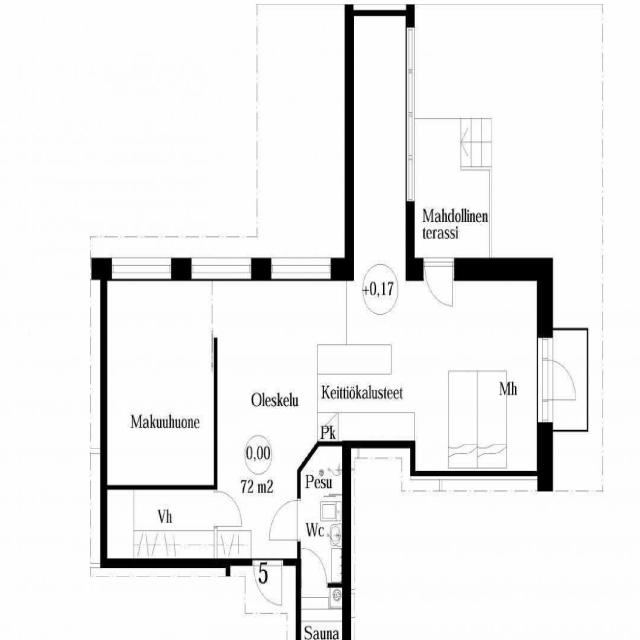door: (537, 360, 581, 399), (425, 258, 452, 319), (253, 558, 282, 608), (269, 500, 301, 539), (302, 548, 326, 588), (214, 492, 242, 526)
